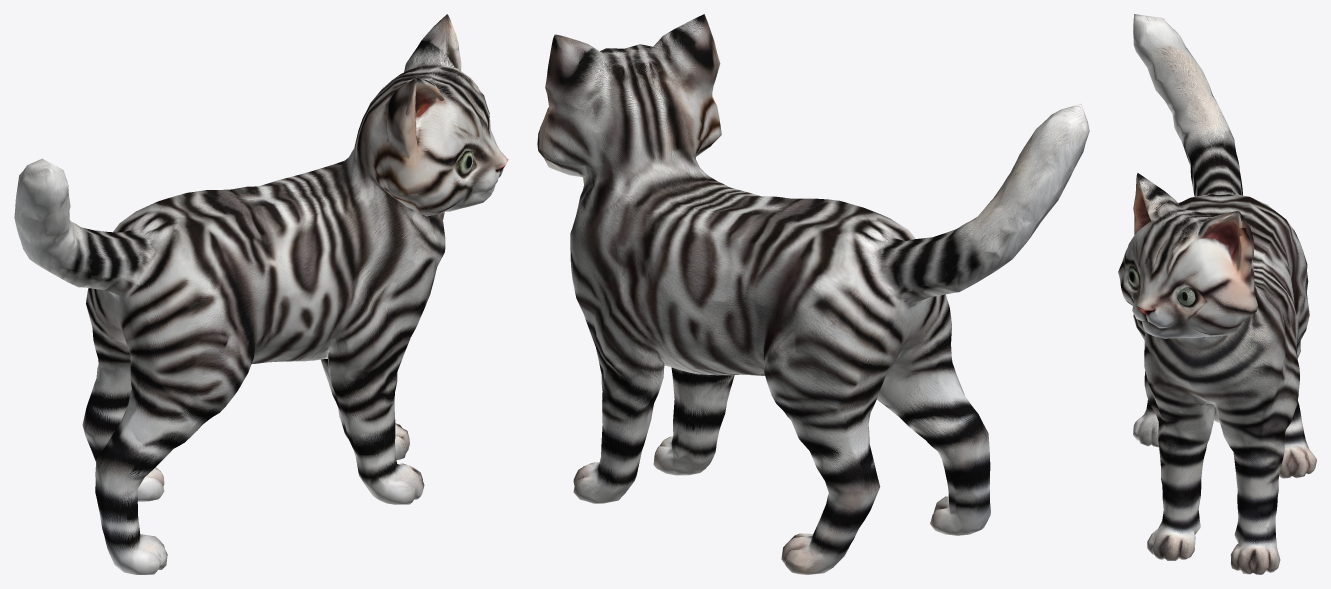
File: NOTEPAW.glb
The picture shows the model from 3 angles, left to right: view 1: azimuth 30°, elevation 25°; view 2: azimuth 150°, elevation 25°; view 3: azimuth 270°, elevation 25°; orthographic projection. The views are drawn at different scales.
Visible parts, largest first — view 1: fit; view 2: fit; view 3: fit.
Part boxes in pixels (x1,y1,x2,y2): fit: [14, 14, 508, 574]; fit: [537, 14, 1089, 574]; fit: [1118, 14, 1316, 574].
Bounding box in the file's own units: 1.19 × 1 × 0.4718.
Materials: 1 (1 with a texture image).
